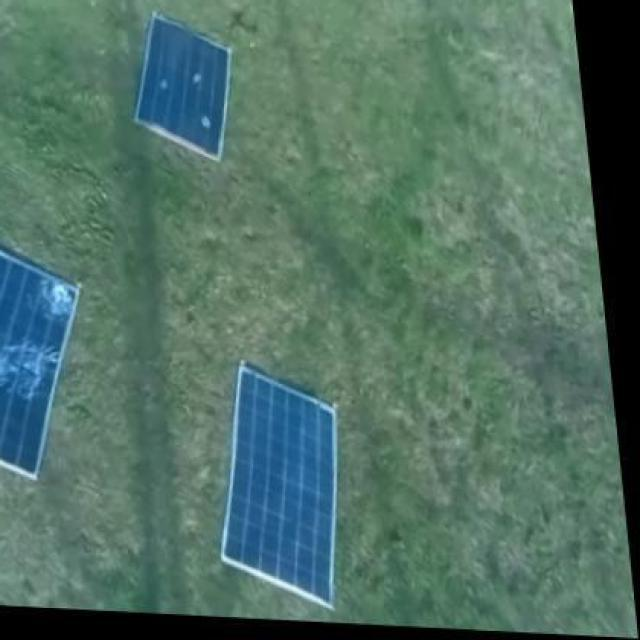cracked: (1, 242, 84, 480)
soiled: (132, 9, 238, 163)
